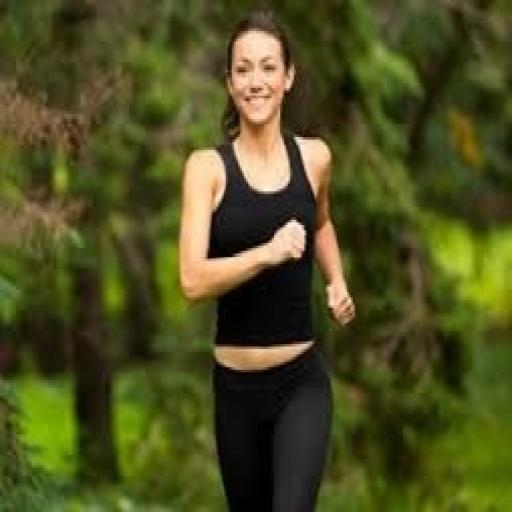running: (175, 8, 359, 509)
